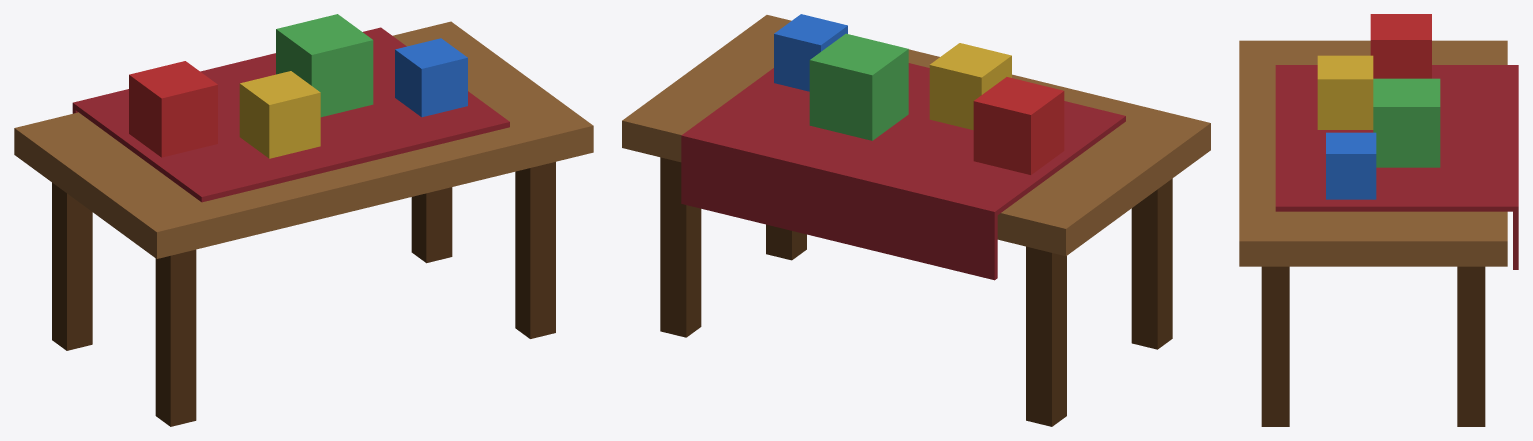
File: tt-trade-table-toys.glb
3 views of the same model, side by side, from view 1: azimuth 30°, elevation 25°; view 2: azimuth 150°, elevation 25°; view 3: azimuth 270°, elevation 25° (orthographic). The views are drawn at different scales.
Parts seen in each view (by area): view 1: box-prop; view 2: box-prop; view 3: box-prop.
Part boxes in pixels (x1,y1,x2,y2): box-prop: (14, 14, 593, 426); box-prop: (622, 14, 1210, 426); box-prop: (1239, 14, 1518, 426).
Bounding box in the file's own units: 1.7 × 1.04 × 1.
